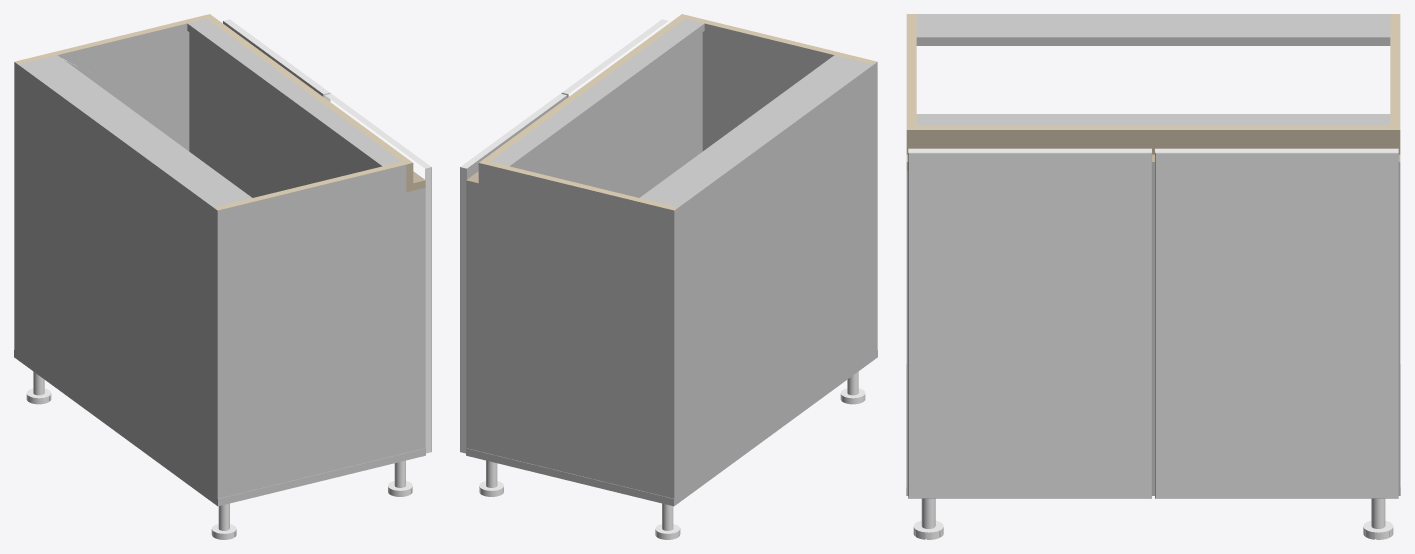
3 renders of one model, left to right at view 1: azimuth 30°, elevation 25°; view 2: azimuth 150°, elevation 25°; view 3: azimuth 270°, elevation 25°, orthographic. The views are drawn at different scales.
Visible parts, largest first — view 1: Model; view 2: Model; view 3: Model.
Boxes of the visible parts, x1,y1,x2,y2 form: Model: [14, 14, 431, 539]; Model: [460, 14, 877, 539]; Model: [906, 14, 1400, 539].
Bounding box in the file's own units: 550 × 817 × 902.
